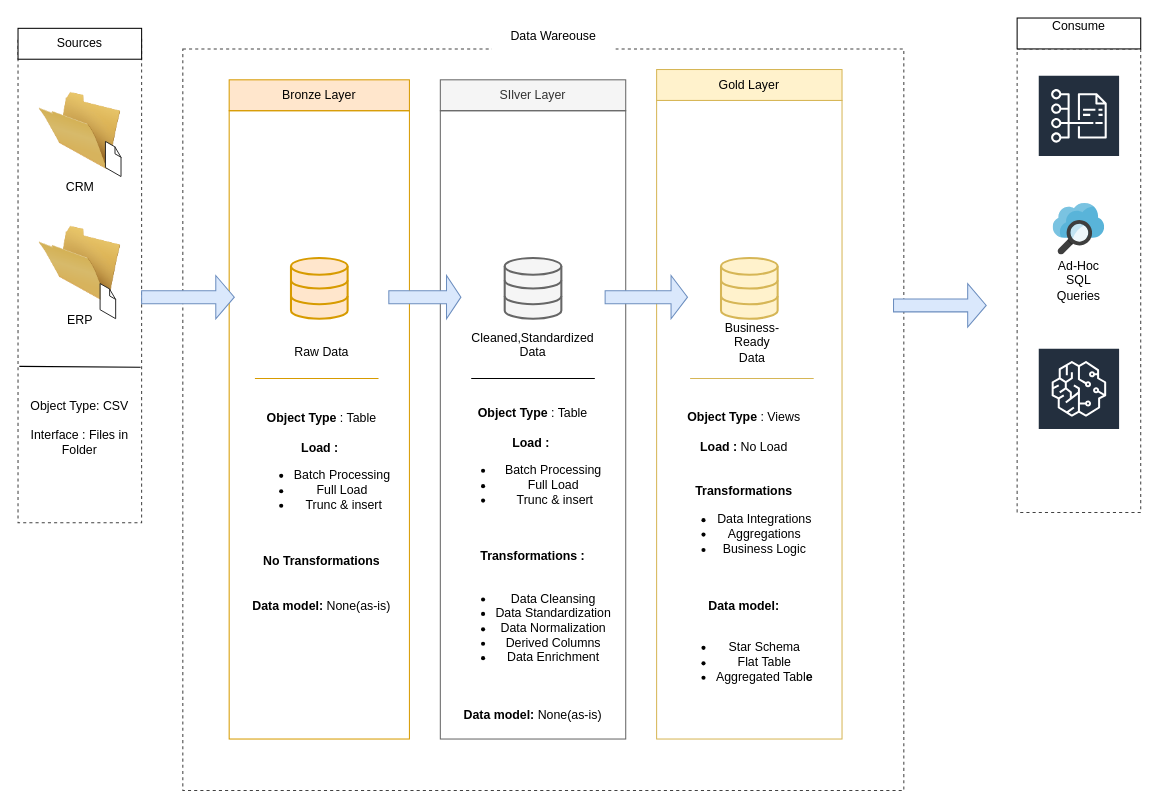
Some shapes in this 1159 by 809 pixel diagram are drawn without their labels. The shapes that lost their labels are listed below. From the top down, each one's centre as x and y in pixels, then its label:
At (1078,131): "BI & Reporting".
At (1078,404): "Machine Learning".
